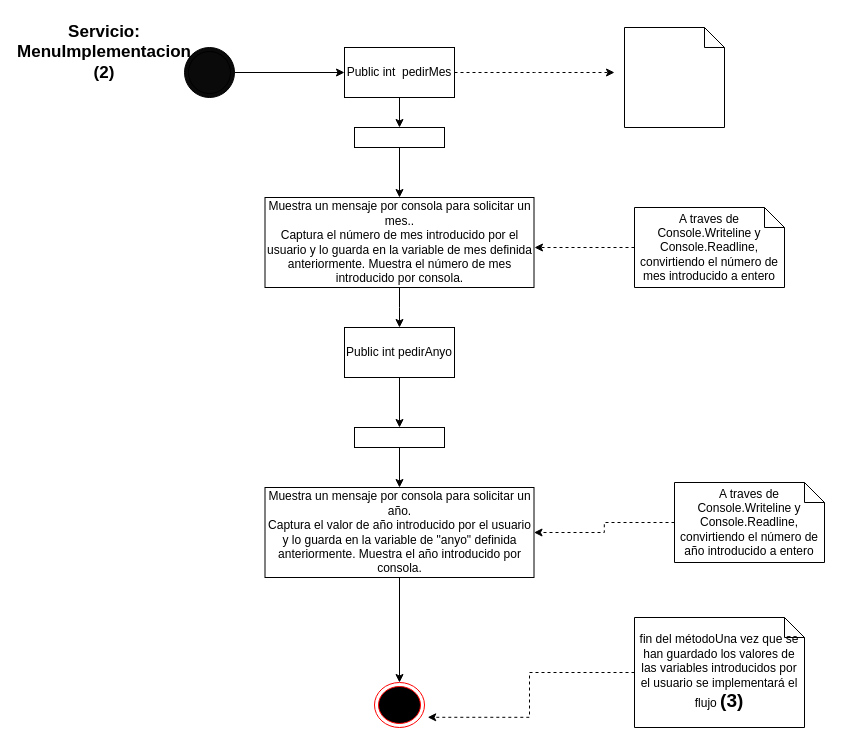
The diagram is 842 pixels wide and 745 high, and some of its shapes have lost their labels. The shapes that lost their labels are listed below. From the top down, each one's box as (x1, y1, x2, y2) in pixels, then its label:
(624, 26, 724, 128): Método pedirMes, solicita al usuario que introduzca un mes
(354, 126, 444, 148): int mes
(354, 426, 444, 448): int anyo
